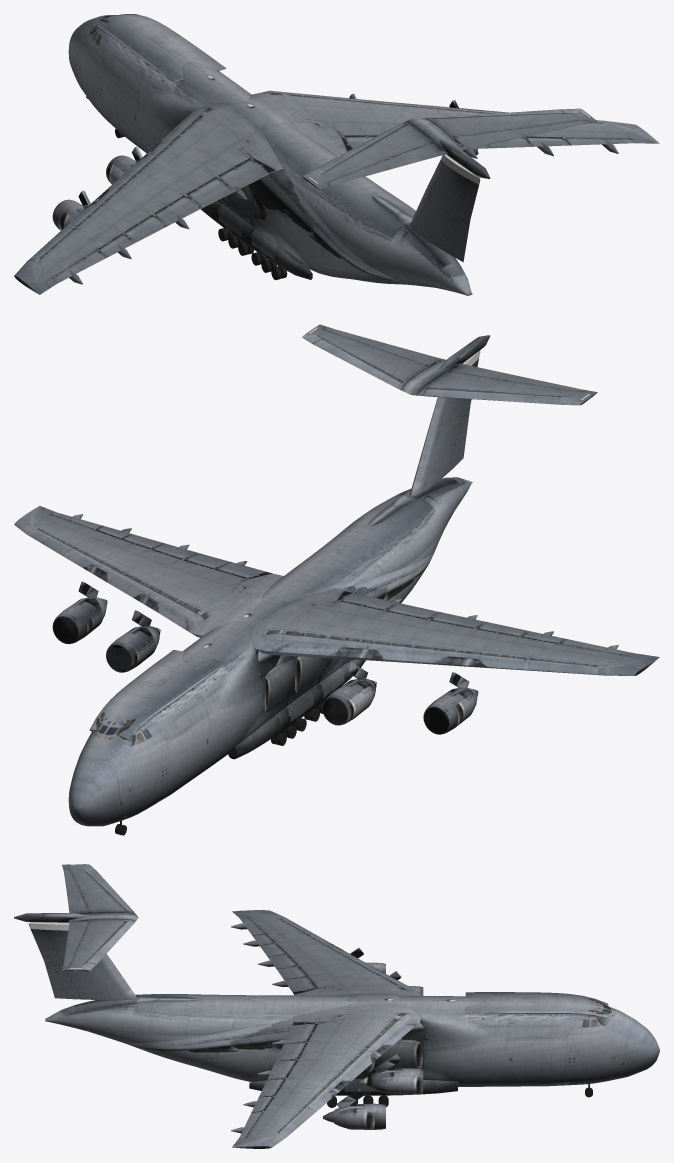
3 renders of one model, top to bottom at view 1: azimuth 30°, elevation 25°; view 2: azimuth 150°, elevation 25°; view 3: azimuth 270°, elevation 25°, orthographic. The views are drawn at different scales.
Visible parts, largest first — view 1: Body, NoseDoor; view 2: Body, NoseDoor; view 3: Body, NoseDoor.
Part boxes in pixels (<box>): Body: <box>14,14,659,295</box>; NoseDoor: <box>68,15,110,94</box>; Body: <box>14,324,659,835</box>; NoseDoor: <box>68,734,131,826</box>; Body: <box>14,864,613,1148</box>; NoseDoor: <box>612,1008,659,1079</box>.
Size of the model in its own units: 68.35 by 24.68 by 79.07.
Materials: 2 (1 with a texture image).
